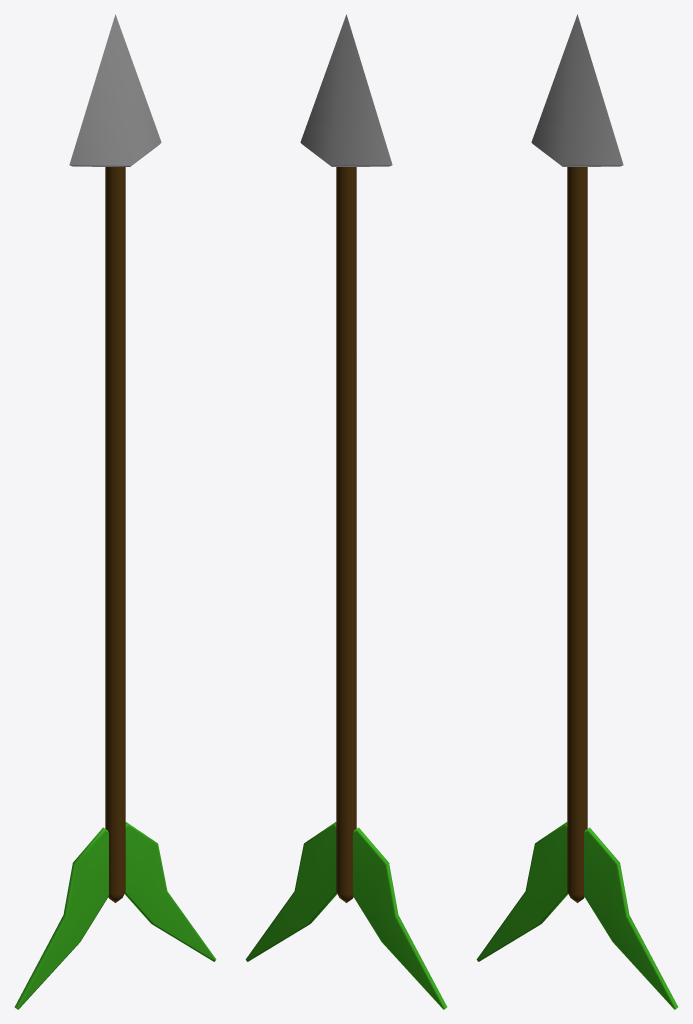
Rendered from Arrow.fbx.
3 views of the same model, side by side, from view 1: azimuth 30°, elevation 25°; view 2: azimuth 150°, elevation 25°; view 3: azimuth 330°, elevation 25° (orthographic).
Visible parts, largest first — view 1: pCube3; view 2: pCube3; view 3: pCube3.
Boxes of the visible parts, x1,y1,x2,y2 form: pCube3: (14, 14, 216, 1009); pCube3: (245, 14, 447, 1009); pCube3: (476, 14, 678, 1009).
Size of the model in its own units: 0.4479 by 2.08 by 0.123.
Materials: 1 (1 with a texture image).
